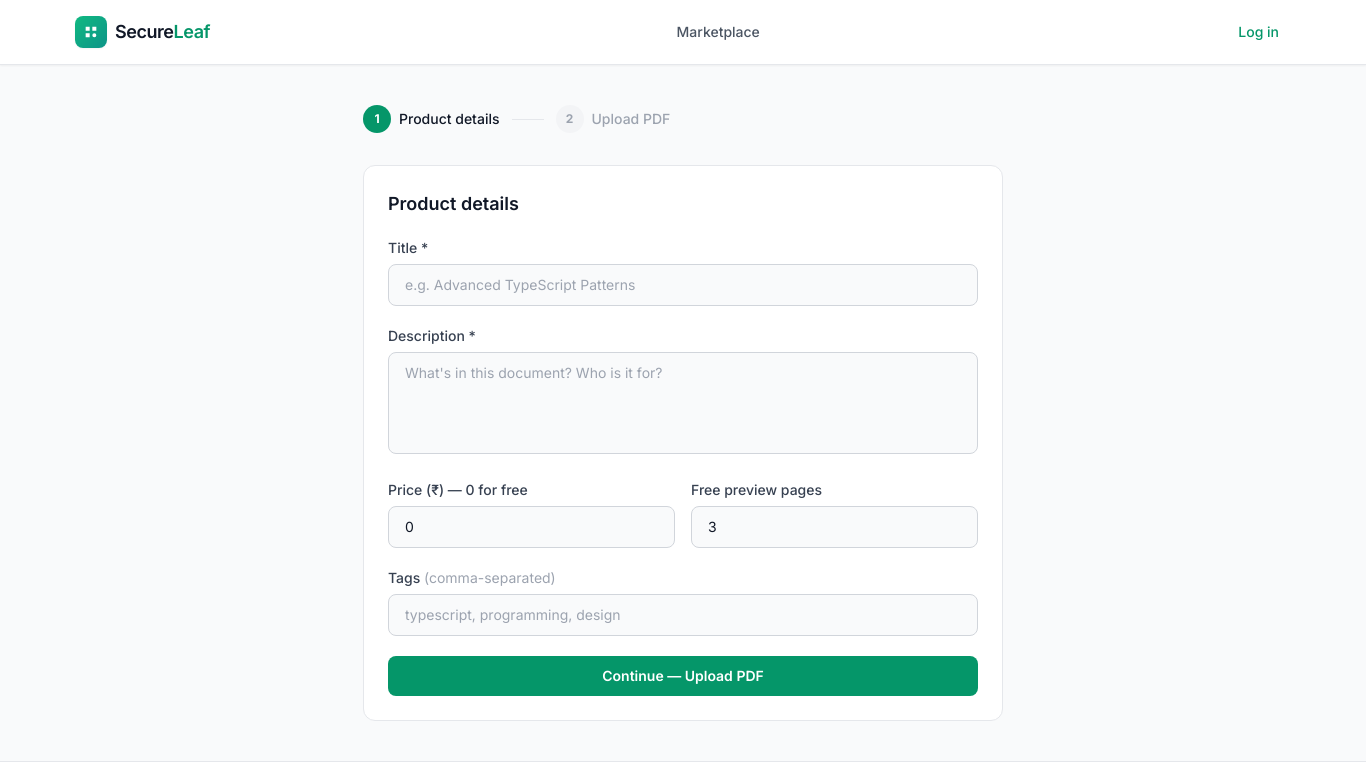
Test: UploadProductPage › moves to step 2 after successful product creation
// Fill required fields
Type "Test PDF" into the field labelled "Title *" at coordinates (683, 285), box [388, 264, 978, 306]
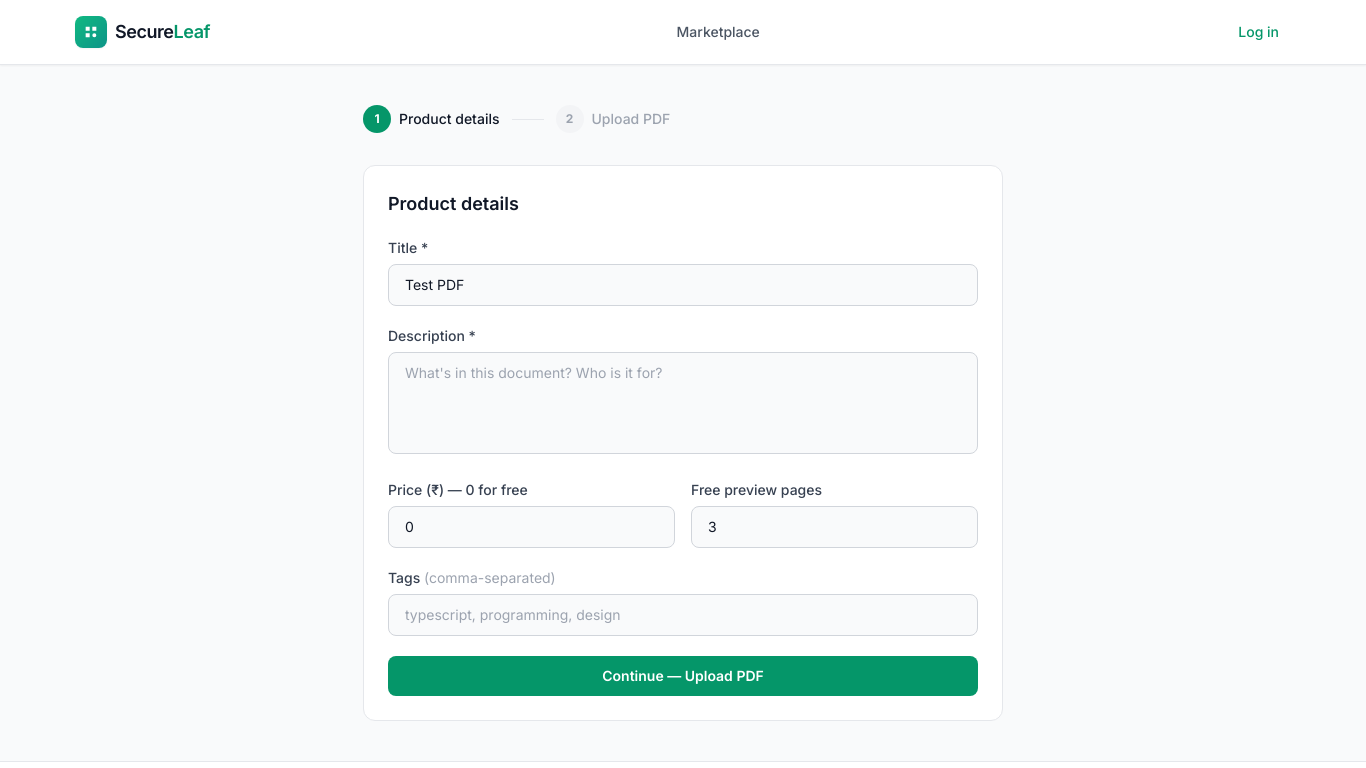
Type "Desc" into the text box labelled "Description *" at coordinates (683, 403), box [388, 352, 978, 454]
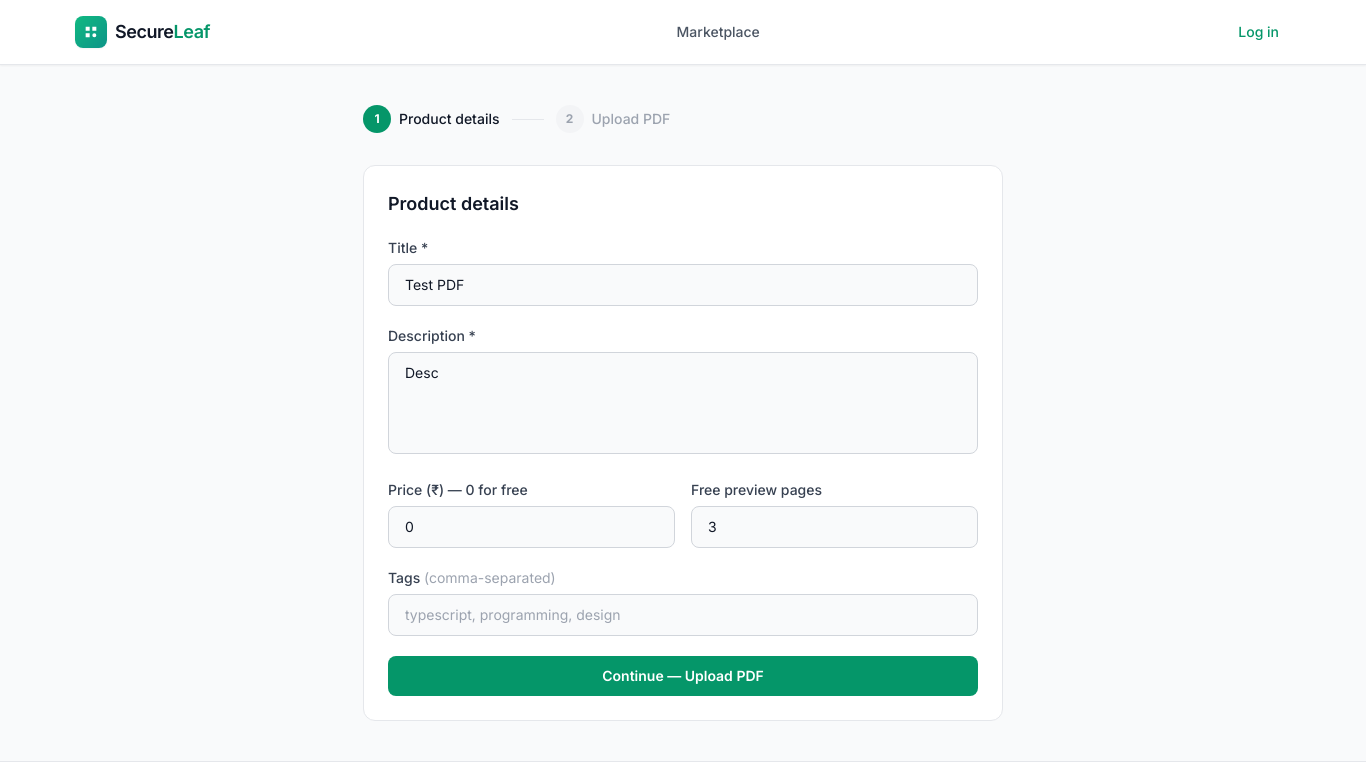
// Submit form
Click the button "Continue — Upload PDF" at coordinates (683, 676), box [388, 656, 978, 696]
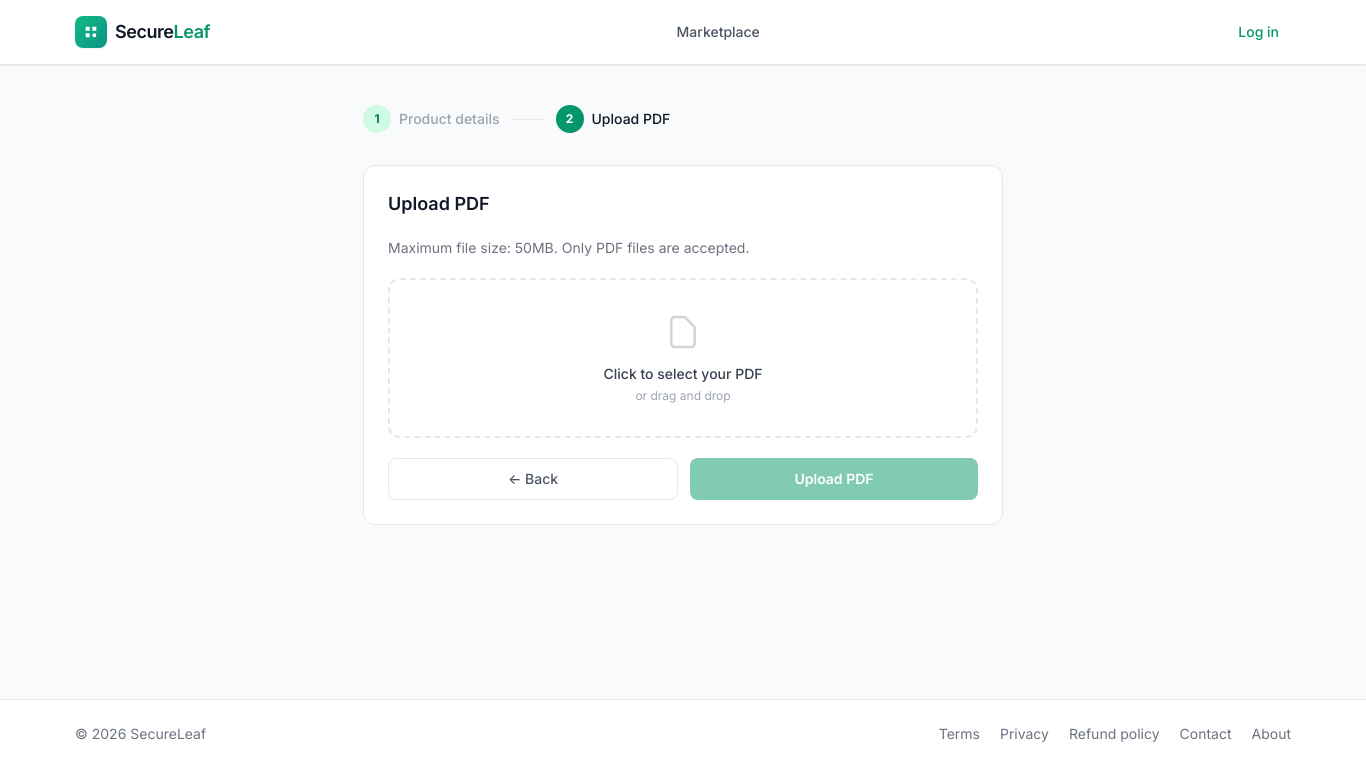
Now the heading "Upload PDF" is shown, box [388, 193, 490, 214]
